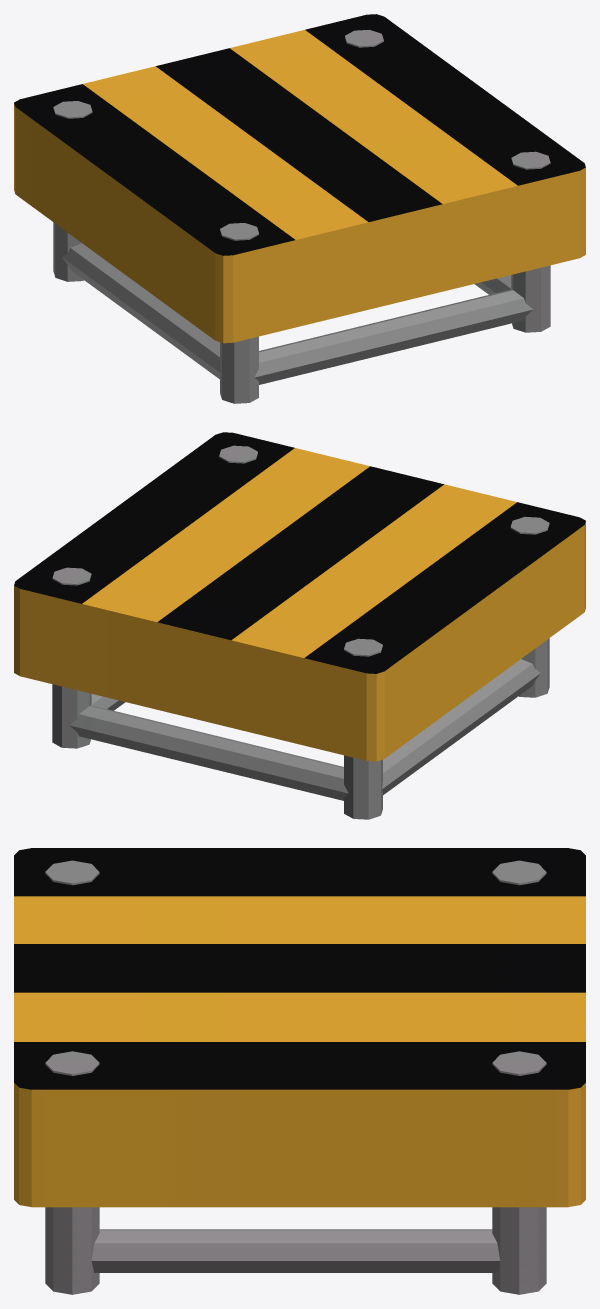
The model's file is PlataformaMoveSpace.glb.
3 renders of one model, top to bottom at view 1: azimuth 30°, elevation 25°; view 2: azimuth 150°, elevation 25°; view 3: azimuth 270°, elevation 25°, orthographic. The views are drawn at different scales.
Parts seen in each view (by area): view 1: PlataformaMoveSpace; view 2: PlataformaMoveSpace; view 3: PlataformaMoveSpace.
Boxes of the visible parts, <box> form: PlataformaMoveSpace: <box>14,14,585,403</box>; PlataformaMoveSpace: <box>14,432,585,819</box>; PlataformaMoveSpace: <box>14,848,585,1294</box>.
Bounding box in the file's own units: 2 × 0.8514 × 2.
1 material, 1 textured.
